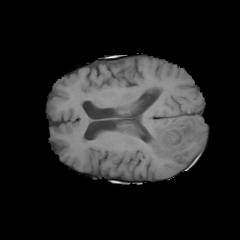glioma: (144, 120, 192, 160)
